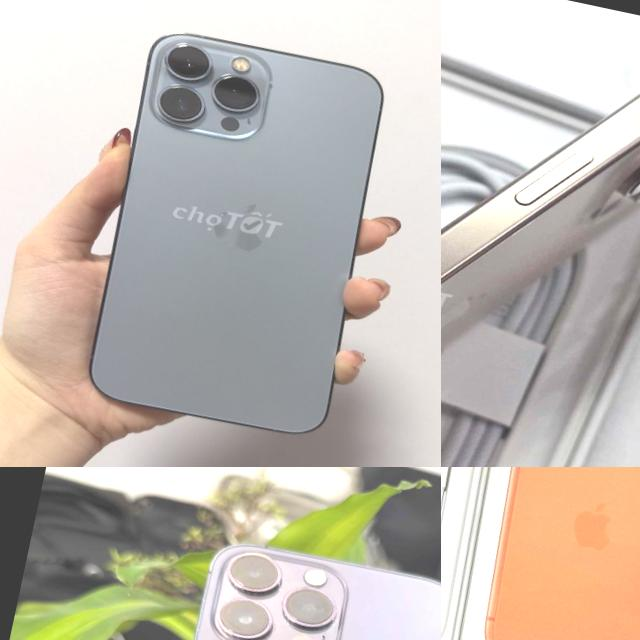gen_12_13: (89, 34, 382, 431)
gen_14: (122, 530, 441, 640)
gen_16: (441, 0, 640, 467)
